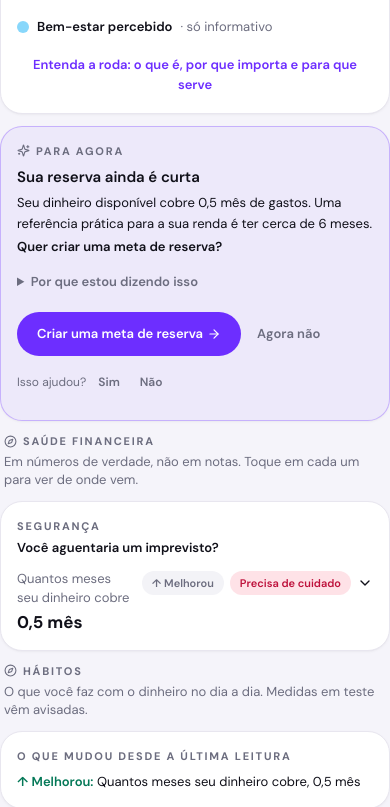
Test case: MapaEntender › Agir e Evoluir (fase 4) › evolução: chip no indicador, detalhe com o valor anterior e seção 'O que mudou'
The width and height of the screenshot is (390, 807).
(page scrolled)
Check: the text "O que mudou desde a última leitura" is shown, box [17, 749, 292, 763]
Check: the text "↑ Melhorou" is shown, box [142, 571, 224, 595]
Click the text "Quantos meses seu dinheiro cobre": (73, 588) [17, 569, 130, 608]
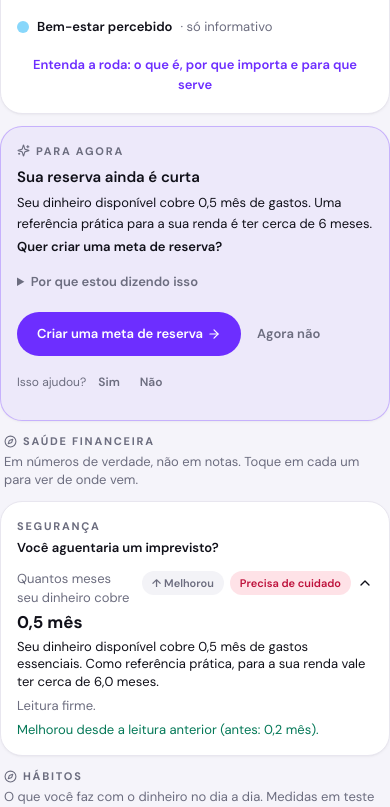
Check: the text "Melhorou desde a leitura anterior (antes: 0,2 mês)." is shown, box [17, 721, 319, 738]
